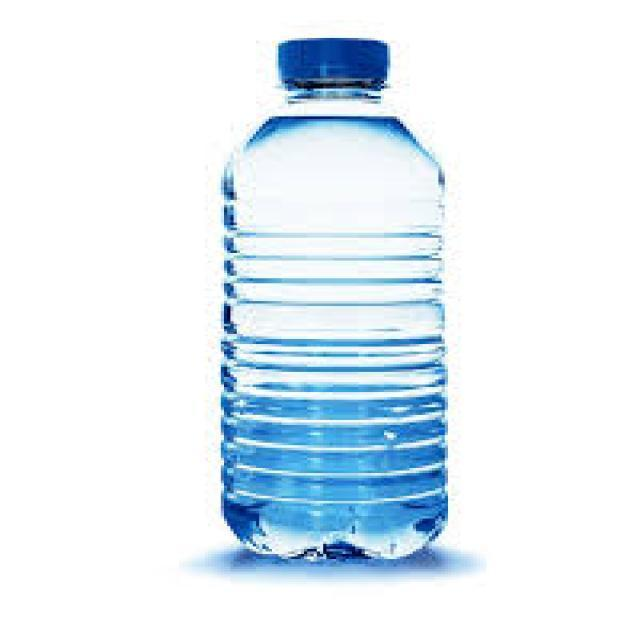Botella de plastico: (221, 116, 448, 558)
Plastico descartable: (279, 38, 389, 101)
